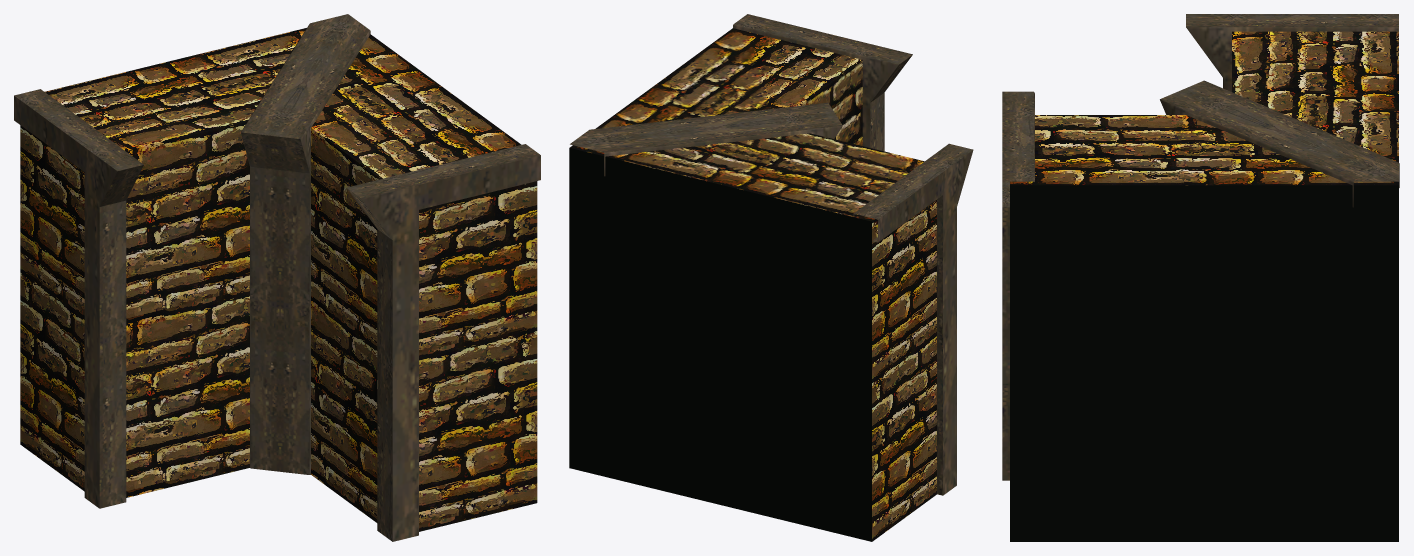
The model's file is stoneCornerB.fbx.
3 views of the same model, side by side, from view 1: azimuth 30°, elevation 25°; view 2: azimuth 150°, elevation 25°; view 3: azimuth 270°, elevation 25° (orthographic). The views are drawn at different scales.
Visible parts, largest first — view 1: stoneCornerB; view 2: stoneCornerB; view 3: stoneCornerB.
Boxes of the visible parts, x1,y1,x2,y2 form: stoneCornerB: (14, 14, 540, 541); stoneCornerB: (569, 14, 973, 541); stoneCornerB: (1002, 14, 1399, 541).
Size of the model in its own units: 301 by 301 by 301.
